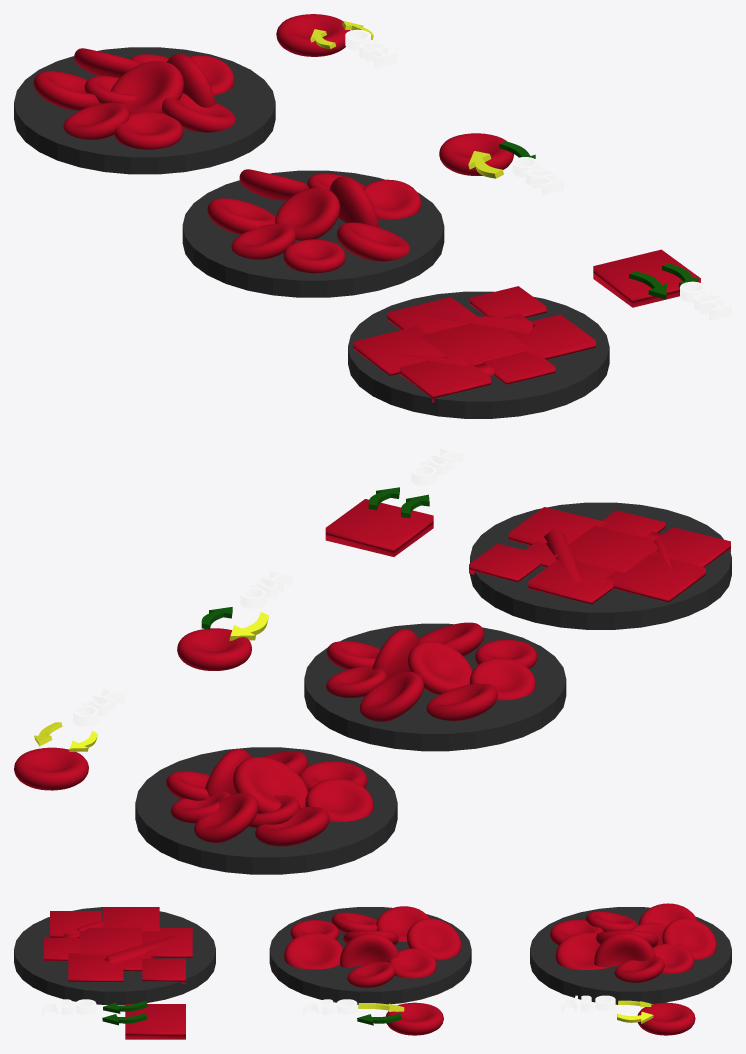
Rendered from animalcell.gltf.
3 views of the same model, one above another, from view 1: azimuth 30°, elevation 25°; view 2: azimuth 150°, elevation 25°; view 3: azimuth 270°, elevation 25° (orthographic). The views are drawn at different scales.
Visible parts, largest first — view 1: Circle.002, Circle.001, Circle, RBC.008, RBC, Sphere.015, RBC.004, Sphere.003, RBC.001, Sphere.009, RBC.003, Sphere.019 (+22 smaller); view 2: Circle.001, Circle.002, Circle, RBC.008, RBC.004, Sphere.015, RBC, Sphere.009, Sphere.019, Sphere.003, RBC.005, Sphere.007 (+23 smaller); view 3: Circle, Circle.001, Circle.002, RBC.008, Sphere, Sphere.007, RBC, Sphere.011, Sphere.010, Sphere.008, Sphere.009, RBC.003 (+30 smaller).
Boxes of the visible parts, x1,y1,x2,y2 form: Circle.002: (182, 170, 444, 297); Circle.001: (14, 47, 275, 174); Circle: (348, 291, 609, 418); RBC.008: (593, 249, 700, 307); RBC: (420, 323, 530, 366); Sphere.015: (110, 61, 183, 114); RBC.004: (353, 326, 445, 375); Sphere.003: (275, 187, 340, 240); RBC.001: (399, 356, 490, 402); Sphere.009: (276, 14, 350, 56); RBC.003: (507, 314, 595, 359); Sphere.019: (439, 133, 513, 175); Circle.001: (135, 747, 397, 874); Circle.002: (304, 623, 566, 751); Circle: (470, 502, 731, 629); RBC.008: (325, 499, 433, 556); RBC.004: (605, 554, 705, 602); Sphere.015: (233, 757, 308, 813); RBC: (554, 525, 664, 572); Sphere.009: (14, 747, 88, 790); Sphere.019: (177, 628, 251, 670); Sphere.003: (408, 641, 472, 694); RBC.005: (528, 559, 615, 604); Sphere.007: (359, 671, 423, 721); Circle: (14, 907, 215, 1004); Circle.001: (530, 907, 731, 1004); Circle.002: (269, 907, 471, 1004); RBC.008: (125, 1004, 185, 1039); Sphere: (284, 932, 342, 969); Sphere.007: (407, 918, 461, 960); RBC: (79, 927, 142, 955); Sphere.011: (662, 918, 716, 960); Sphere.010: (594, 932, 655, 967); Sphere.008: (340, 933, 398, 967); Sphere.009: (637, 1002, 695, 1035); RBC.003: (68, 953, 123, 981).
Size of the model in its own units: 7.53 by 1.5 by 17.76.
